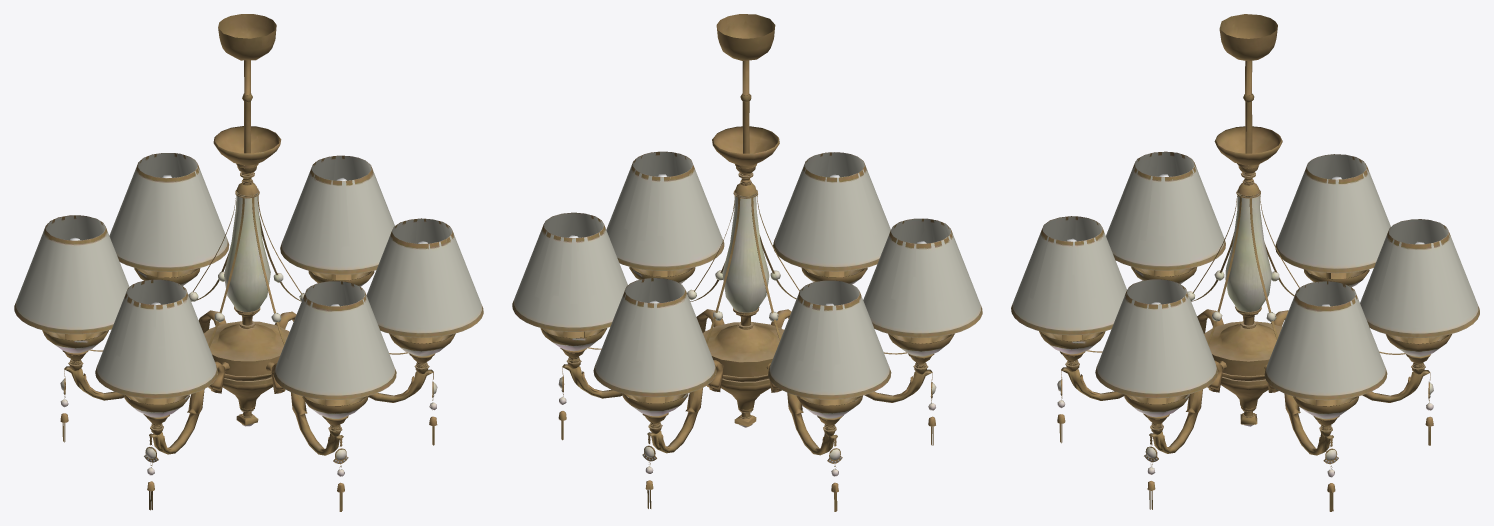
The model's file is Chandelier_01.glb.
3 views of the same model, side by side, from view 1: azimuth 30°, elevation 25°; view 2: azimuth 150°, elevation 25°; view 3: azimuth 270°, elevation 25° (orthographic).
Parts seen in each view (by area): view 1: Chandelier_01; view 2: Chandelier_01; view 3: Chandelier_01.
Part boxes in pixels (x1=…): Chandelier_01: x1=14, y1=14, x2=483, y2=511; Chandelier_01: x1=512, y1=14, x2=982, y2=511; Chandelier_01: x1=1011, y1=14, x2=1479, y2=511.
Size of the model in its own units: 0.7465 by 0.7983 by 0.8155.
2 materials, 1 textured.
